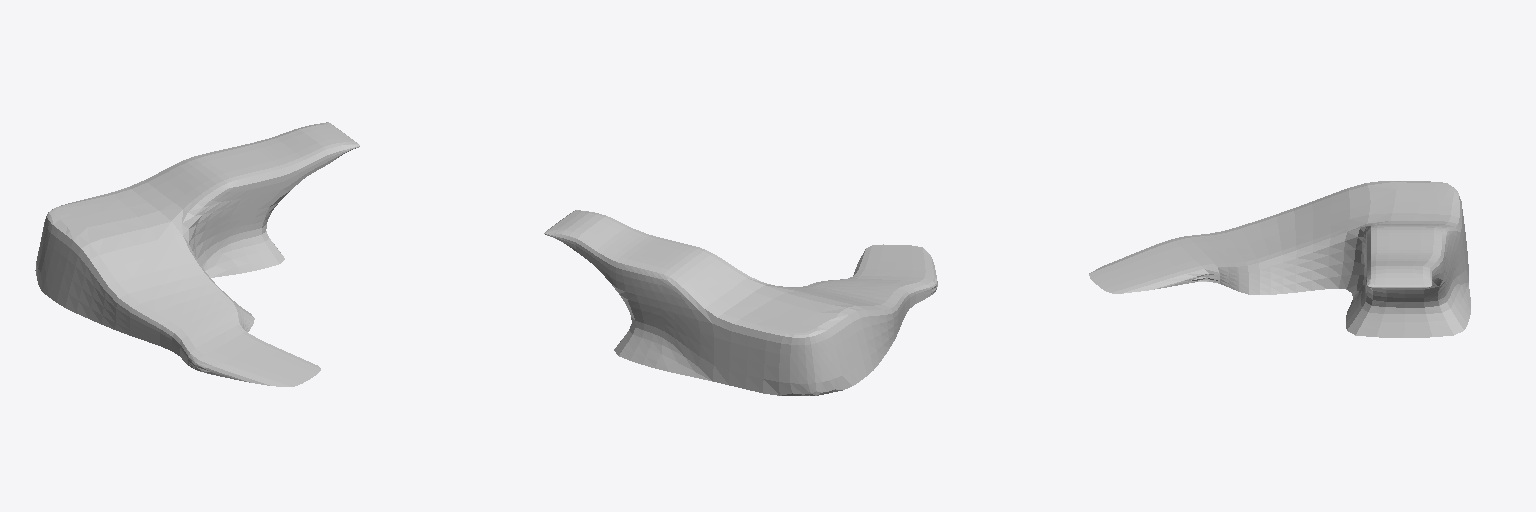
The model's file is platform_1.obj.
The picture shows the model from 3 angles: view 1: azimuth 30°, elevation 25°; view 2: azimuth 150°, elevation 25°; view 3: azimuth 270°, elevation 25°; orthographic projection.
Visible parts, largest first — view 1: Cube.008; view 2: Cube.008; view 3: Cube.008.
Part boxes in pixels (left/top/right/bottom): Cube.008: left=35, top=122, right=359, bottom=386; Cube.008: left=544, top=210, right=937, bottom=395; Cube.008: left=1089, top=181, right=1470, bottom=337.
Size of the model in its own units: 31.41 by 9.38 by 34.77.